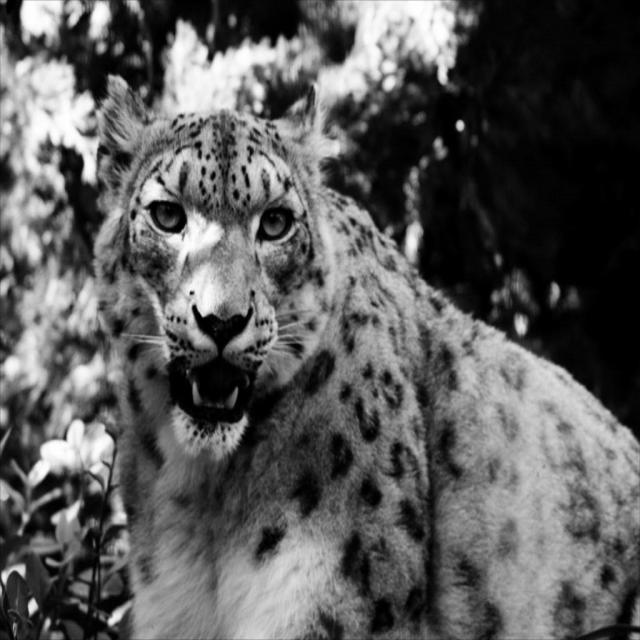Cheetah: (92, 72, 639, 639)
